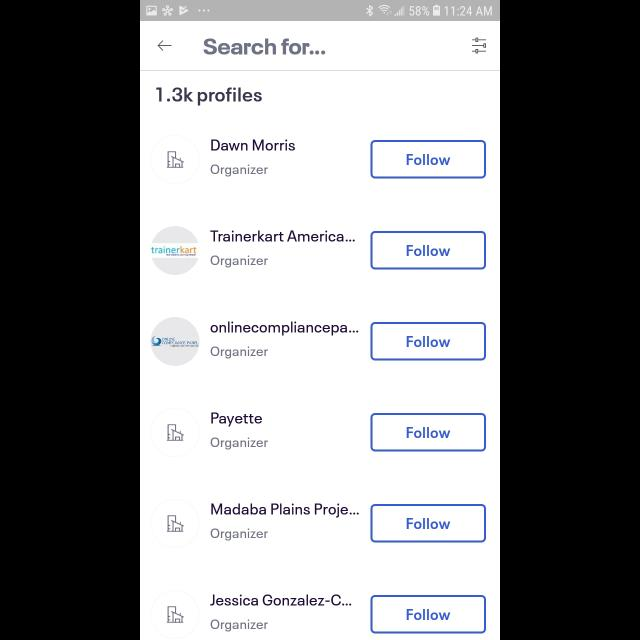icon: (472, 38, 486, 54), (158, 40, 172, 51)
image: (150, 498, 200, 548), (150, 408, 200, 457), (152, 316, 200, 366), (152, 590, 200, 638), (152, 226, 200, 274), (152, 136, 200, 184)
text: (211, 502, 359, 518), (211, 320, 359, 336), (203, 38, 325, 56), (157, 88, 263, 106), (210, 230, 356, 242), (210, 594, 352, 606), (212, 140, 296, 152), (212, 412, 262, 428), (211, 165, 269, 178), (211, 620, 269, 632), (211, 528, 269, 540), (210, 438, 268, 450), (211, 346, 269, 358), (211, 256, 269, 268)
textbutton: (370, 594, 486, 634), (370, 504, 486, 544), (370, 412, 486, 452), (370, 230, 486, 270), (370, 322, 486, 361), (370, 140, 486, 178)
uppertaskbar: (140, 1, 500, 22)
